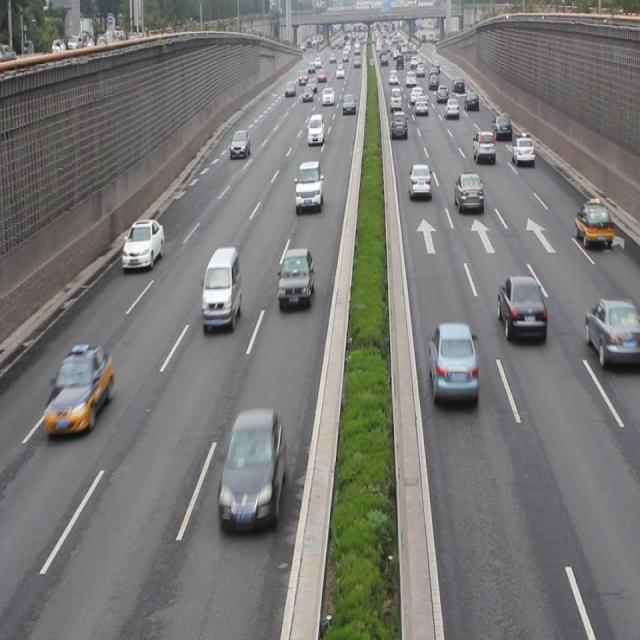car: (218, 408, 285, 530), (44, 344, 113, 438), (582, 295, 640, 369), (427, 320, 479, 402), (496, 271, 546, 344), (276, 247, 314, 310), (121, 218, 164, 270), (573, 198, 612, 248), (294, 162, 323, 214), (454, 169, 484, 215), (471, 129, 496, 164), (408, 161, 430, 200), (510, 132, 533, 164), (306, 112, 324, 146), (491, 113, 511, 141), (230, 129, 250, 157), (390, 109, 408, 138)
truck: (201, 247, 242, 330)
